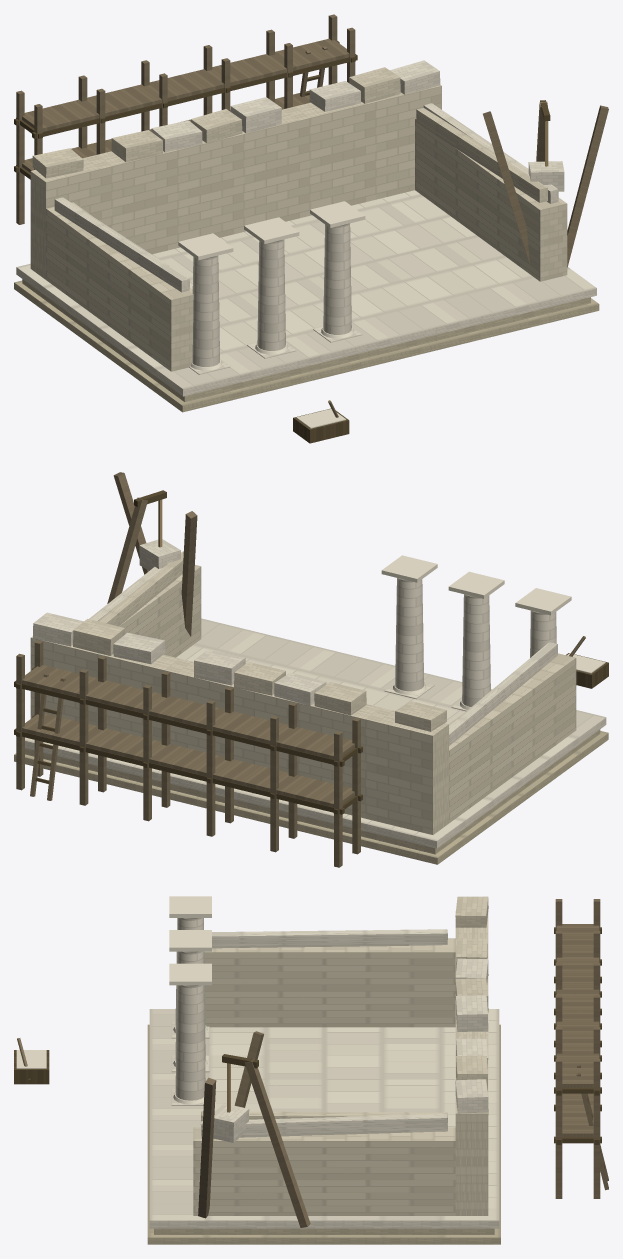
File: pol-1-construction.glb
3 views of the same model, one above another, from view 1: azimuth 30°, elevation 25°; view 2: azimuth 150°, elevation 25°; view 3: azimuth 270°, elevation 25° (orthographic). The views are drawn at different scales.
Size of the model in its own units: 21.9 by 8 by 23.58.
Materials: 16 (13 with a texture image).
